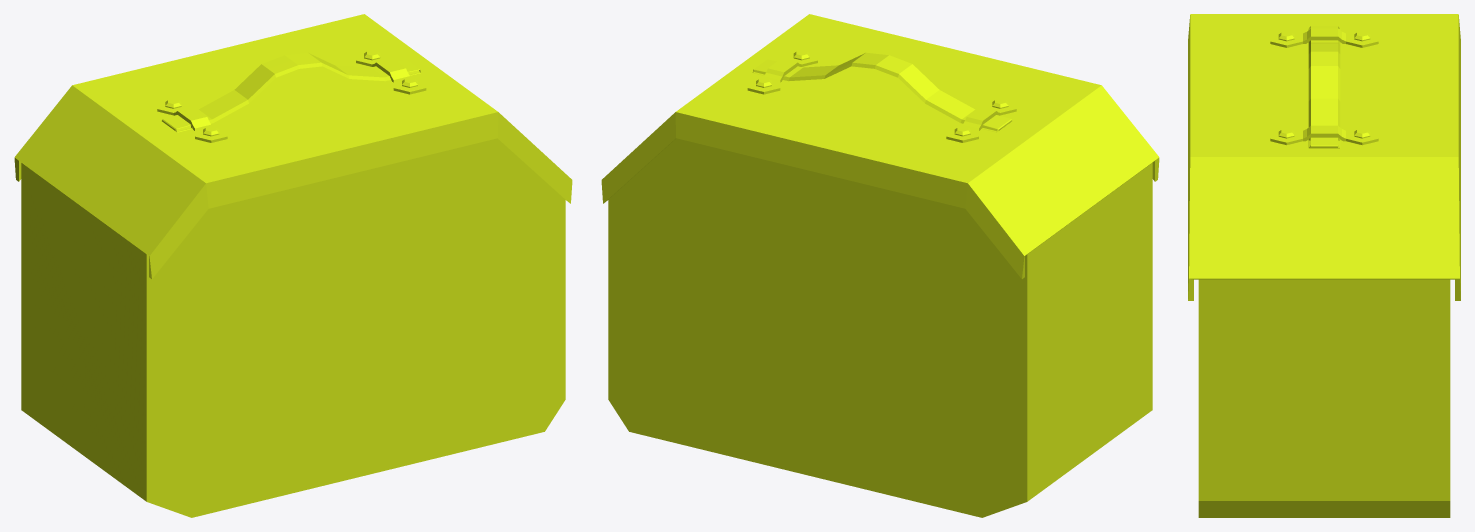
File: AmmoBox.fbx
The picture shows the model from 3 angles, left to right: view 1: azimuth 30°, elevation 25°; view 2: azimuth 150°, elevation 25°; view 3: azimuth 270°, elevation 25°; orthographic projection.
Parts seen in each view (by area): view 1: Cube; view 2: Cube; view 3: Cube.
Boxes of the visible parts, bbox=[...] form: Cube: bbox=[14, 14, 572, 517]; Cube: bbox=[601, 14, 1159, 517]; Cube: bbox=[1188, 14, 1460, 517].
Bounding box in the file's own units: 316 × 265 × 176.
